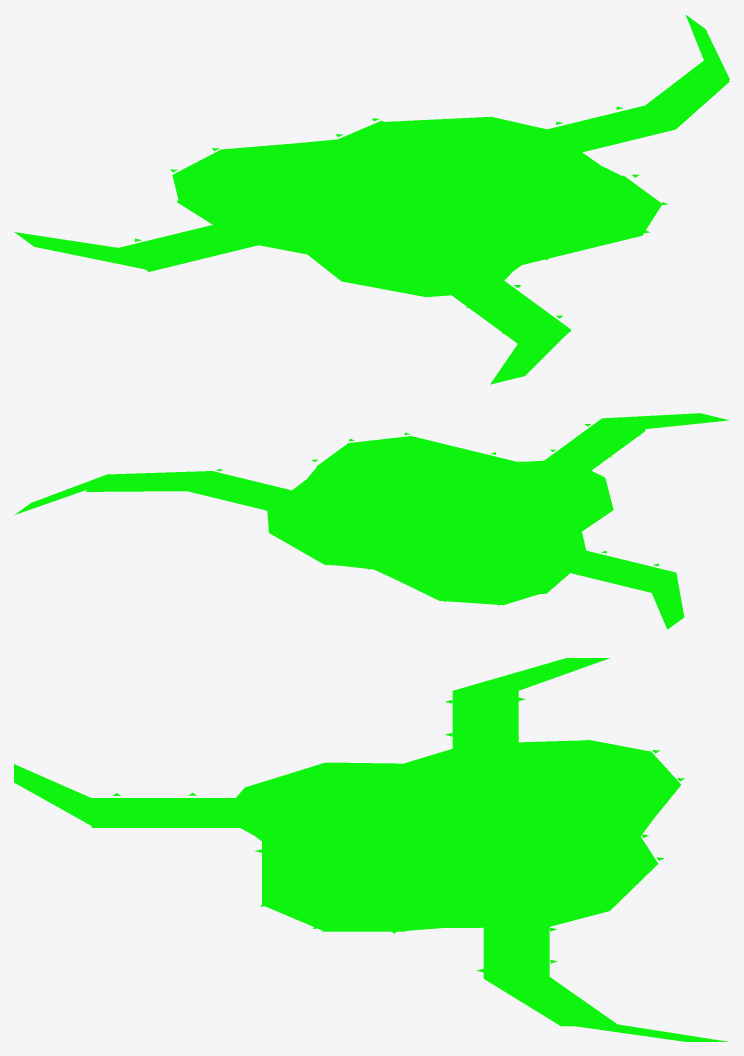
File: s02b_td2-floor.glb
3 views of the same model, one above another, from view 1: azimuth 30°, elevation 25°; view 2: azimuth 150°, elevation 25°; view 3: azimuth 270°, elevation 25° (orthographic). The views are drawn at different scales.
Parts seen in each view (by area): view 1: collision_floor-colonly; view 2: collision_floor-colonly; view 3: collision_floor-colonly.
Part boxes in pixels (x1=…): collision_floor-colonly: x1=14, y1=14, x2=729, y2=384; collision_floor-colonly: x1=15, y1=413, x2=728, y2=629; collision_floor-colonly: x1=14, y1=658, x2=728, y2=1041.
Bounding box in the file's own units: 82.64 × 0.4219 × 65.12.
